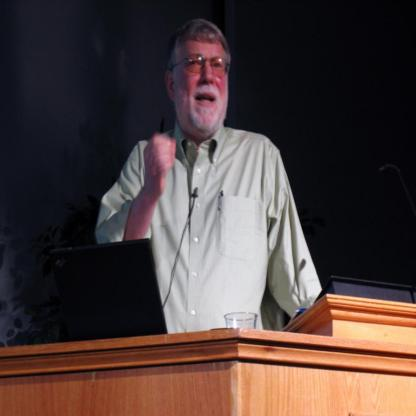board: (51, 232, 174, 343)
